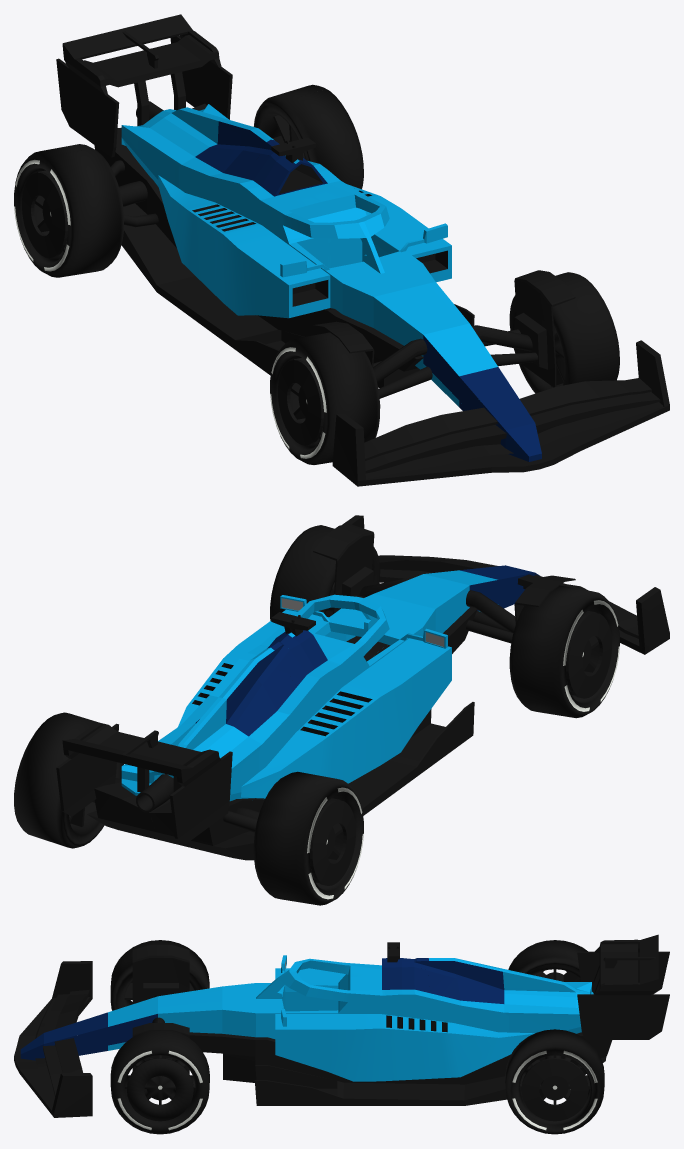
File: williams_car.glb
3 views of the same model, one above another, from view 1: azimuth 30°, elevation 25°; view 2: azimuth 150°, elevation 25°; view 3: azimuth 270°, elevation 25° (orthographic). The views are drawn at different scales.
Visible parts, largest first — view 1: Base Unsubsurfed, Front Wing Base, Sidepod, Rear Wing, Bottom, RR_Tire, FR_Tire, FL_Tire, RL_Tire, L_Inside Cover, FRod, RRod (+1 smaller); view 2: Base Unsubsurfed, Sidepod, RR_Tire, FR_Tire, Rear Wing, Bottom, RL_Tire, Front Wing Base, FL_Tire, L_Inside Cover, FRod, R_Inside Cover (+3 smaller); view 3: Base Unsubsurfed, Sidepod, Bottom, RL_Tire, FL_Tire, Rear Wing, Front Wing Base, R_Inside Cover, RR_Tire, FR_Tire, L_Inside Cover.
Boxes of the visible parts, x1,y1,x2,y2 form: Base Unsubsurfed: [121, 104, 541, 461]; Front Wing Base: [332, 340, 669, 486]; Sidepod: [158, 175, 451, 318]; Rear Wing: [56, 14, 232, 157]; Bottom: [94, 103, 474, 387]; RR_Tire: [14, 144, 124, 277]; FR_Tire: [270, 332, 380, 464]; FL_Tire: [509, 272, 619, 393]; RL_Tire: [253, 84, 363, 189]; L_Inside Cover: [514, 270, 575, 387]; FRod: [373, 325, 538, 398]; RRod: [110, 160, 158, 227]; Base Unsubsurfed: [121, 565, 539, 801]; Sidepod: [178, 609, 451, 798]; RR_Tire: [253, 771, 363, 905]; FR_Tire: [509, 585, 619, 718]; Rear Wing: [56, 722, 232, 843]; Bottom: [87, 607, 477, 860]; RL_Tire: [14, 712, 123, 848]; Front Wing Base: [342, 515, 669, 654]; FL_Tire: [270, 525, 380, 620]; L_Inside Cover: [313, 524, 374, 614]; FRod: [353, 576, 515, 643]; R_Inside Cover: [514, 575, 575, 624]; Base Unsubsurfed: [20, 955, 593, 1060]; Sidepod: [275, 968, 534, 1081]; Bottom: [189, 1032, 612, 1105]; RL_Tire: [505, 1029, 604, 1134]; FL_Tire: [110, 1031, 209, 1134]; Rear Wing: [577, 934, 669, 1039]; Front Wing Base: [14, 961, 92, 1117]; R_Inside Cover: [132, 945, 189, 1003]; RR_Tire: [508, 940, 587, 981]; FR_Tire: [110, 940, 209, 1010]; L_Inside Cover: [132, 1023, 189, 1089].
Bounding box in the file's own units: 5.15 × 2.77 × 12.15.
